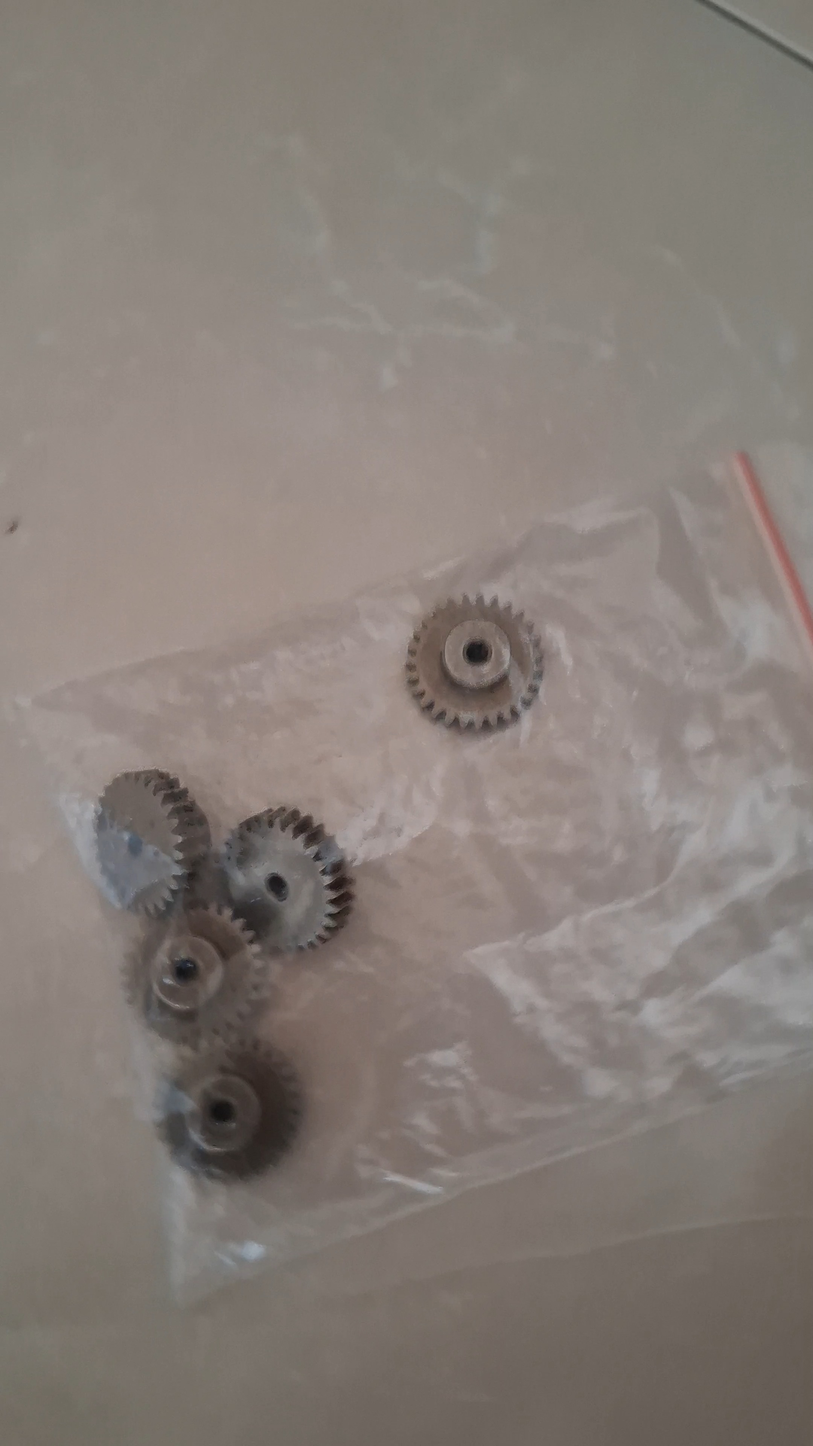spur gear: (124, 906, 269, 1048), (159, 1039, 301, 1180), (222, 807, 352, 952), (406, 595, 542, 729), (95, 769, 210, 917)
